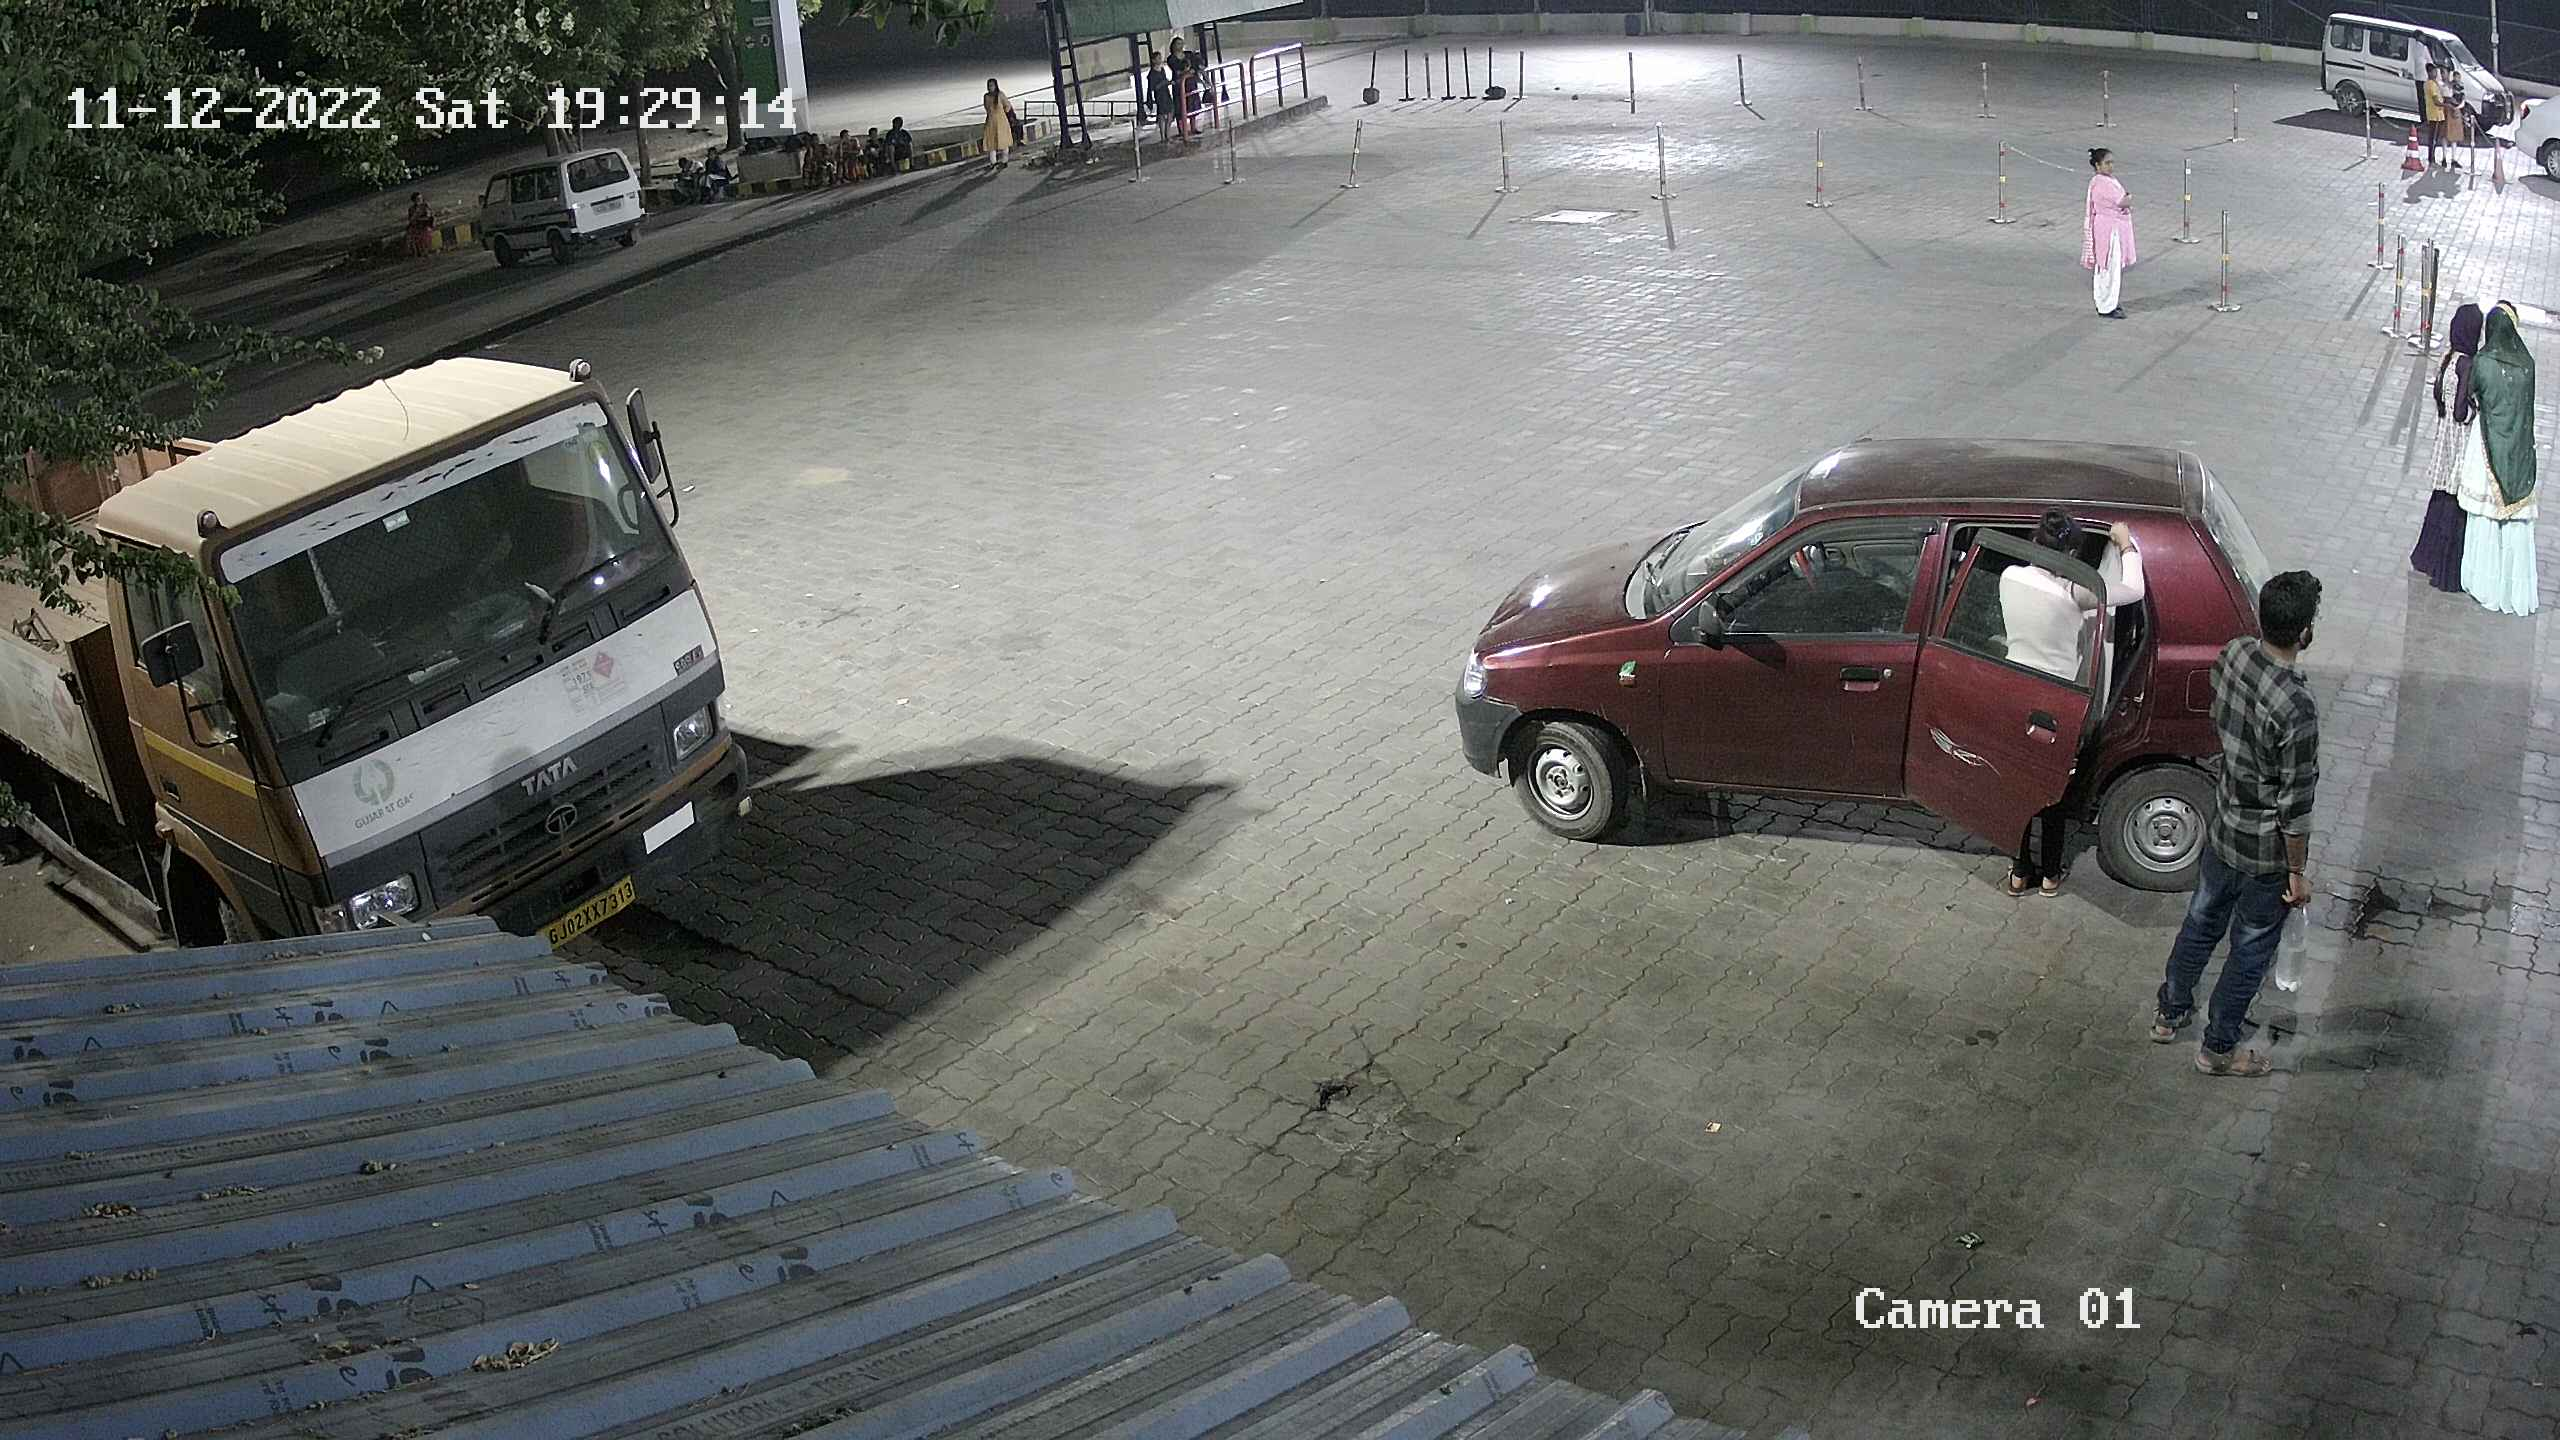Car: (1451, 415, 2310, 904), (2296, 2, 2523, 137), (464, 142, 672, 269), (2484, 62, 2560, 234)
HMV: (2, 329, 774, 985)
